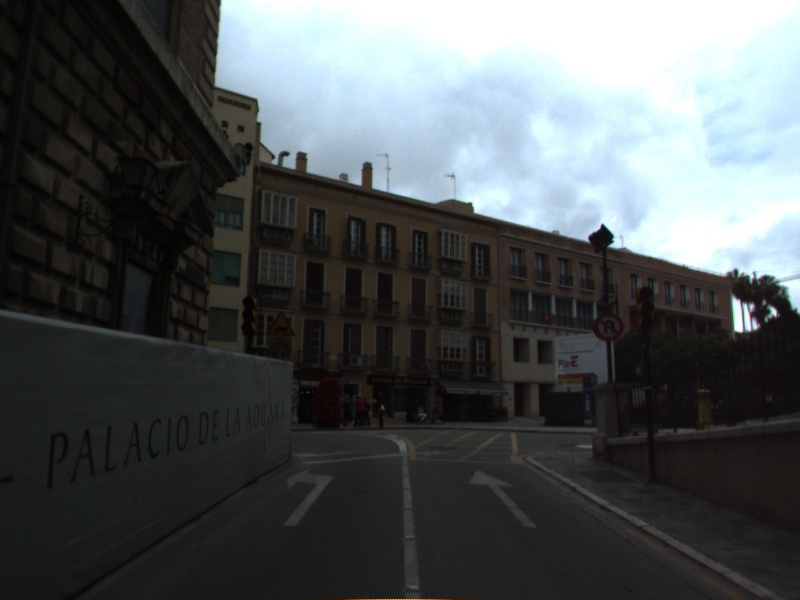LEFT: (280, 464, 335, 528)
STRAIGHT: (466, 466, 539, 530)
